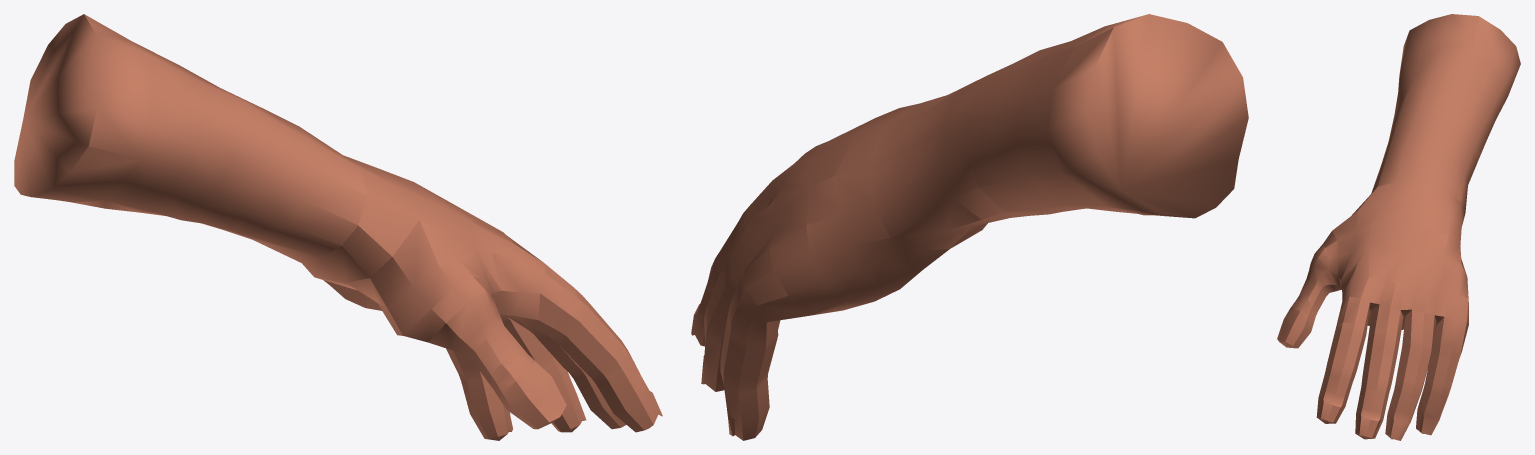
Rendered from ChildHand.fbx.
3 renders of one model, left to right at view 1: azimuth 30°, elevation 25°; view 2: azimuth 150°, elevation 25°; view 3: azimuth 270°, elevation 25°, orthographic. The views are drawn at different scales.
Visible parts, largest first — view 1: Mesh (2); view 2: Mesh (2); view 3: Mesh (2).
Boxes of the visible parts, left/top/right/bottom form: Mesh (2): left=14, top=14, right=662, bottom=440; Mesh (2): left=691, top=14, right=1248, bottom=440; Mesh (2): left=1277, top=14, right=1520, bottom=440.
Bounding box in the file's own units: 209 × 179 × 130.
